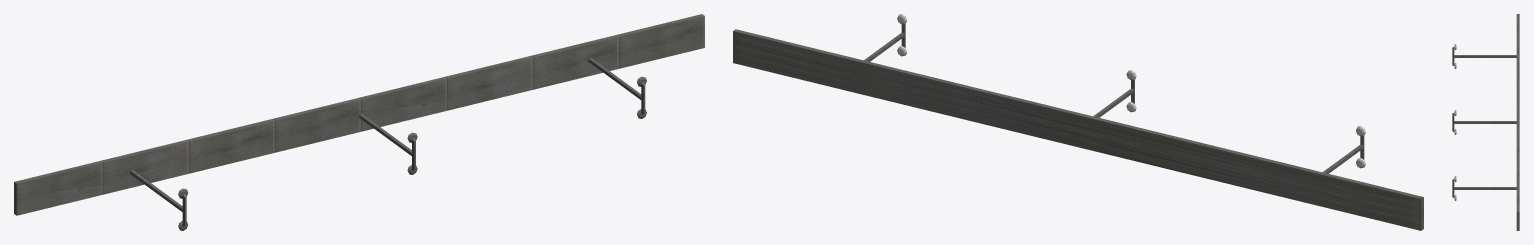
The model's file is urbanmeridianlightsHa_wtf.obj.
The picture shows the model from 3 angles, left to right: view 1: azimuth 30°, elevation 25°; view 2: azimuth 150°, elevation 25°; view 3: azimuth 270°, elevation 25°; orthographic projection. The views are drawn at different scales.
Visible parts, largest first — view 1: group3; view 2: group3, group4; view 3: group3, group4.
Boxes of the visible parts, x1,y1,x2,y2 form: group3: [14, 14, 704, 230]; group3: [733, 23, 1423, 230]; group4: [897, 14, 1365, 168]; group3: [1452, 14, 1519, 230]; group4: [1455, 44, 1456, 200].
Bounding box in the file's own units: 660 × 38.79 × 94.69.
